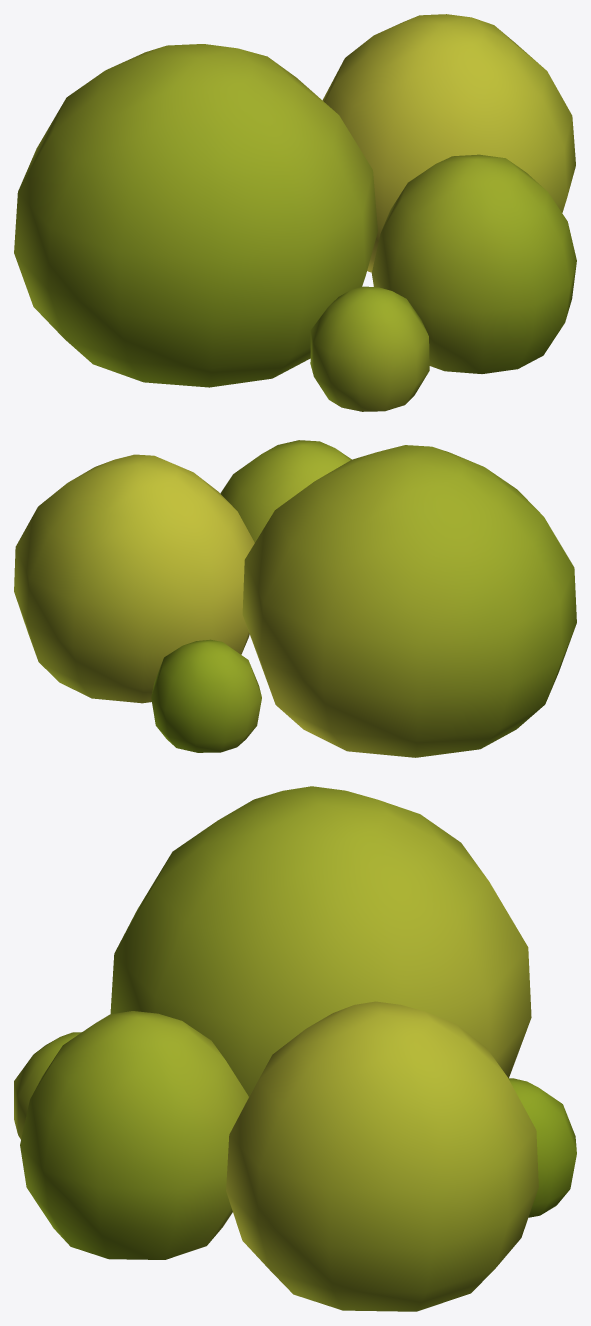
Rendered from SM_Bush_02.fbx.
3 renders of one model, top to bottom at view 1: azimuth 30°, elevation 25°; view 2: azimuth 150°, elevation 25°; view 3: azimuth 270°, elevation 25°, orthographic. The views are drawn at different scales.
Visible parts, largest first — view 1: SM_Bush_02; view 2: SM_Bush_02; view 3: SM_Bush_02.
Part boxes in pixels (<box>): SM_Bush_02: <box>14,14,576,411</box>; SM_Bush_02: <box>14,440,576,757</box>; SM_Bush_02: <box>14,786,576,1311</box>.
Bounding box in the file's own units: 315 × 154 × 248.
